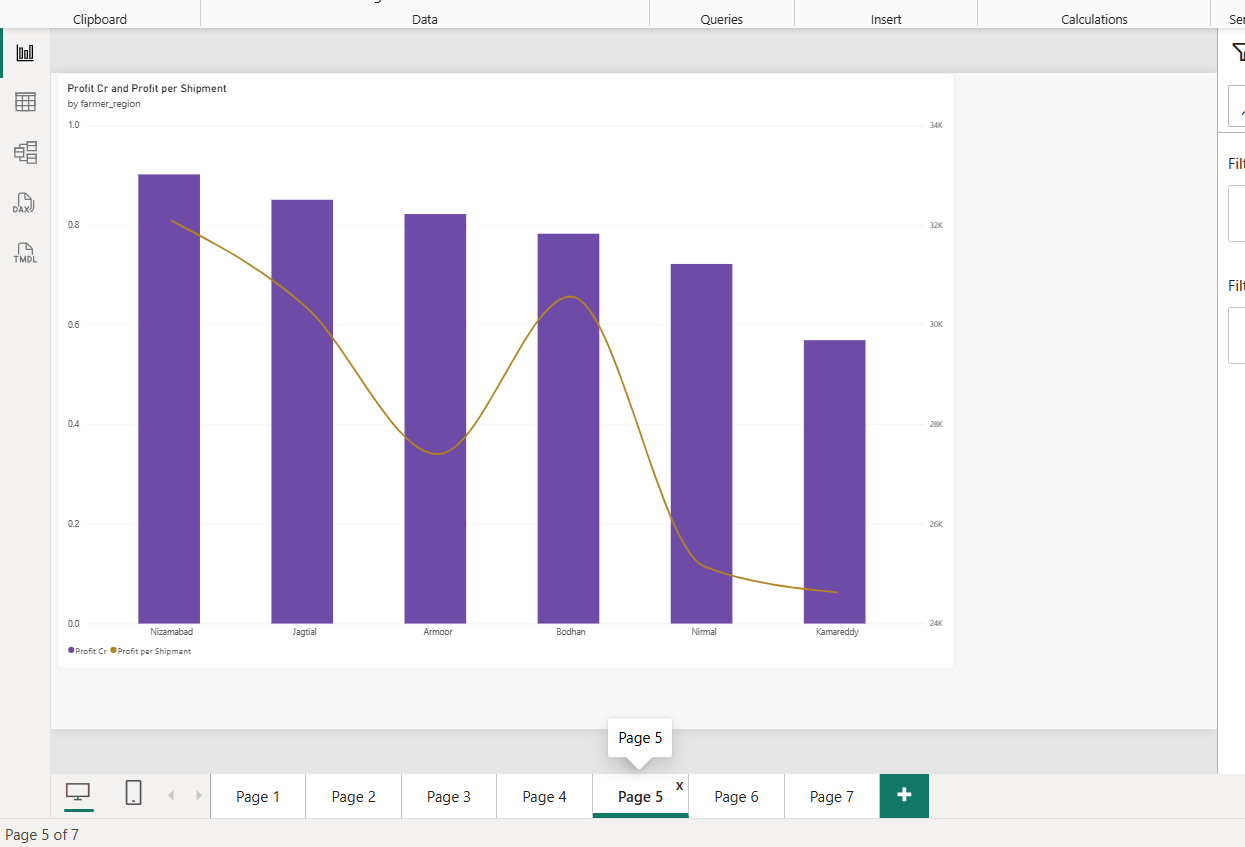

The dashboard page shown, as its layout file describes it:
{"tool":"powerbi","page":{"name":"Page 5","canvas":[1920,1080],"ordinal":4},"visuals":[{"type":"lineStackedColumnComboChart","fields":{"Category":["Fact_Shipments.farmer_region"],"Y":["Fact_Shipments.Profit Cr"],"Y2":["Fact_Shipments.Profit per Shipment"]},"box":[10.3,0,1477.9,981.8],"z":0}]}

Visuals, with their boxes on the page's 1920x1080 design canvas (x1, y1, x2, y2). These are canvas units, not pixel positions in the 1245x847 screenshot, which may show the page scaled, cropped or inside an application window:
lineStackedColumnComboChart - Fact_Shipments.farmer_region x Fact_Shipments.Profit Cr: <bbox>10, 0, 1488, 982</bbox>
